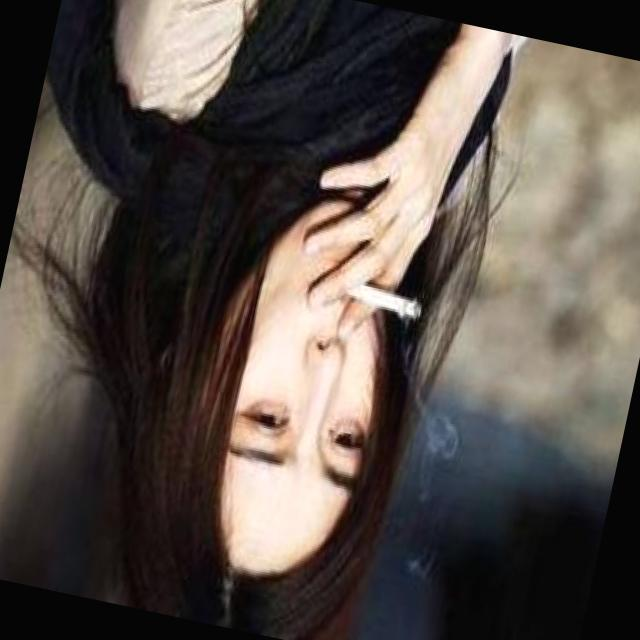smoke: (322, 258, 443, 350)
